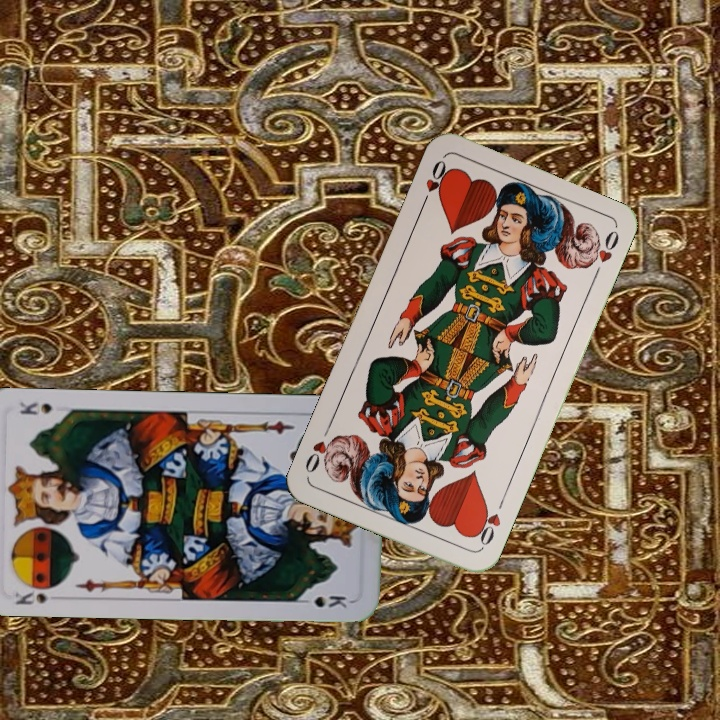HO: (470, 494, 507, 550), (417, 155, 452, 211)
SK: (11, 581, 63, 608)
